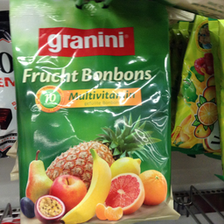candy: (15, 4, 170, 213)
